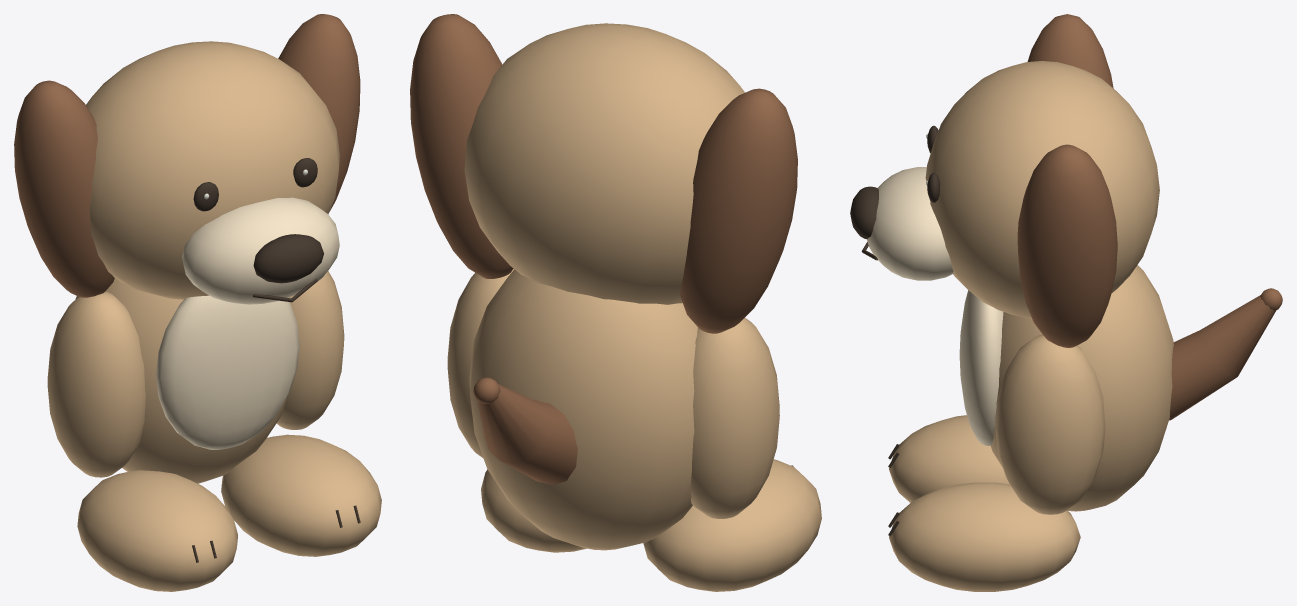
The model's file is plush_dog.glb.
The picture shows the model from 3 angles, left to right: view 1: azimuth 30°, elevation 25°; view 2: azimuth 150°, elevation 25°; view 3: azimuth 270°, elevation 25°; orthographic projection. The views are drawn at different scales.
Visible parts, largest first — view 1: Dog oversized stuffed head, Dog cream chest patch, Dog seated foot -1, Dog seated foot 1, Dog front soft arm -1, Dog floppy ear -1, Dog protruding cream muzzle, Dog stuffed body, Dog floppy ear 1, Dog front soft arm 1, Dog dark round nose, Dog button eye -1 (+1 smaller); view 2: Dog oversized stuffed head, Dog stuffed body, Dog floppy ear -1, Dog floppy ear 1, Dog front soft arm -1, Dog seated foot -1, Dog curved short tail, Dog front soft arm 1, Dog seated foot 1, Dog rounded tail tip; view 3: Dog oversized stuffed head, Dog floppy ear 1, Dog stuffed body, Dog seated foot 1, Dog front soft arm 1, Dog protruding cream muzzle, Dog curved short tail, Dog seated foot -1, Dog cream chest patch, Dog floppy ear -1, Dog dark round nose.
Boxes of the visible parts, x1=… form: Dog oversized stuffed head: x1=86, y1=41, x2=339, y2=299; Dog cream chest patch: x1=156, y1=295, x2=299, y2=449; Dog seated foot -1: x1=77, y1=470, x2=237, y2=591; Dog seated foot 1: x1=221, y1=434, x2=381, y2=556; Dog front soft arm -1: x1=47, y1=291, x2=145, y2=477; Dog floppy ear -1: x1=14, y1=80, x2=114, y2=297; Dog protruding cream muzzle: x1=182, y1=197, x2=339, y2=304; Dog stuffed body: x1=75, y1=278, x2=286, y2=483; Dog floppy ear 1: x1=278, y1=14, x2=360, y2=211; Dog front soft arm 1: x1=276, y1=271, x2=344, y2=429; Dog dark round nose: x1=253, y1=234, x2=323, y2=283; Dog button eye -1: x1=193, y1=182, x2=218, y2=211; Dog oversized stuffed head: x1=464, y1=23, x2=744, y2=304; Dog stuffed body: x1=469, y1=269, x2=697, y2=550; Dog floppy ear -1: x1=680, y1=88, x2=797, y2=333; Dog floppy ear 1: x1=410, y1=14, x2=513, y2=278; Dog front soft arm -1: x1=690, y1=318, x2=779, y2=518; Dog seated foot -1: x1=643, y1=459, x2=821, y2=591; Dog curved short tail: x1=477, y1=384, x2=577, y2=484; Dog front soft arm 1: x1=447, y1=269, x2=514, y2=458; Dog seated foot 1: x1=481, y1=469, x2=586, y2=552; Dog rounded tail tip: x1=473, y1=377, x2=500, y2=403; Dog oversized stuffed head: x1=925, y1=61, x2=1159, y2=317; Dog floppy ear 1: x1=1017, y1=144, x2=1117, y2=347; Dog stuffed body: x1=991, y1=265, x2=1173, y2=511; Dog seated foot 1: x1=889, y1=482, x2=1080, y2=591; Dog front soft arm 1: x1=995, y1=334, x2=1105, y2=514; Dog protruding cream muzzle: x1=867, y1=167, x2=953, y2=280; Dog curved short tail: x1=1169, y1=295, x2=1276, y2=420; Dog seated foot -1: x1=889, y1=415, x2=1009, y2=502; Dog cream chest patch: x1=959, y1=290, x2=1003, y2=445; Dog floppy ear -1: x1=1027, y1=14, x2=1113, y2=88; Dog dark round nose: x1=850, y1=186, x2=878, y2=239.
Bounding box in the file's own units: 0.2222 × 0.31 × 0.257.
